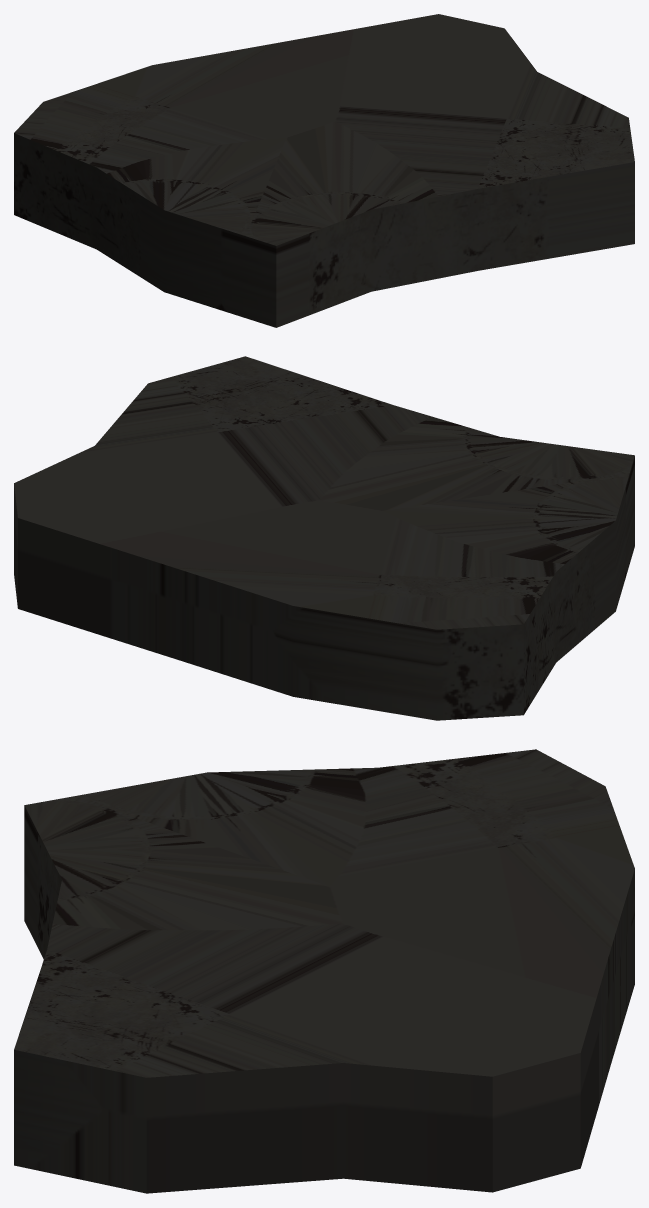
Rendered from Rubble04.FBX.
The picture shows the model from 3 angles, top to bottom: view 1: azimuth 30°, elevation 25°; view 2: azimuth 150°, elevation 25°; view 3: azimuth 270°, elevation 25°; orthographic projection. The views are drawn at different scales.
Parts seen in each view (by area): view 1: Plane040; view 2: Plane040; view 3: Plane040.
Part boxes in pixels (x1,y1,x2,y2): Plane040: (14, 14, 634, 327); Plane040: (14, 356, 634, 720); Plane040: (14, 749, 634, 1193).
Bounding box in the file's own units: 9127 × 1500 × 7292.
